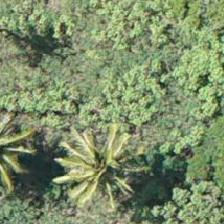coconut_tree: (49, 127, 139, 217), (0, 0, 62, 80)
